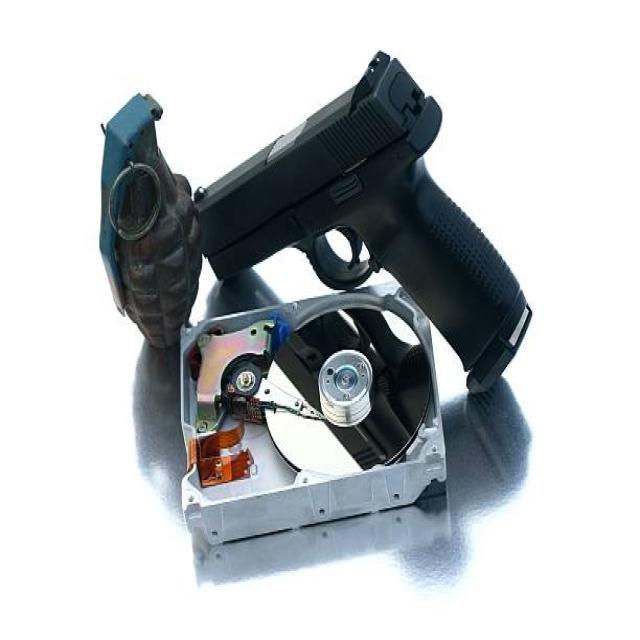grenade: (97, 87, 214, 358)
